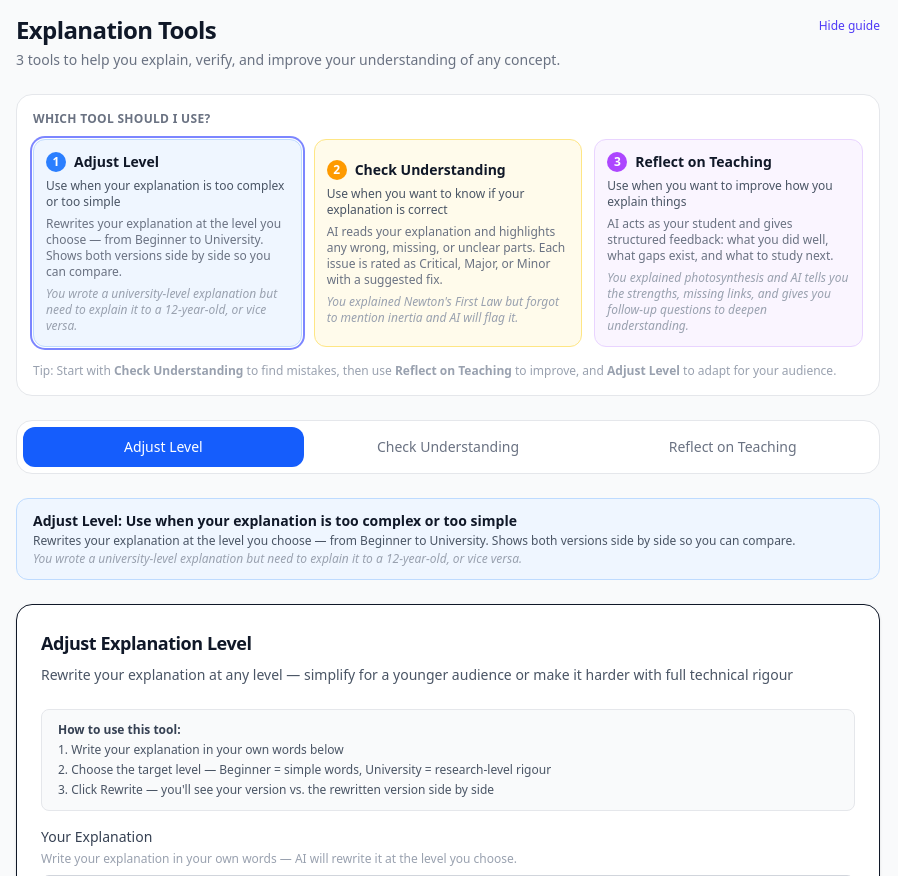
it: SimplifyPage — Explanation Tools › shows guide again after second toggle click
Click the button "Hide guide" at {"x": 849, "y": 26}, box [819,18,880,34]
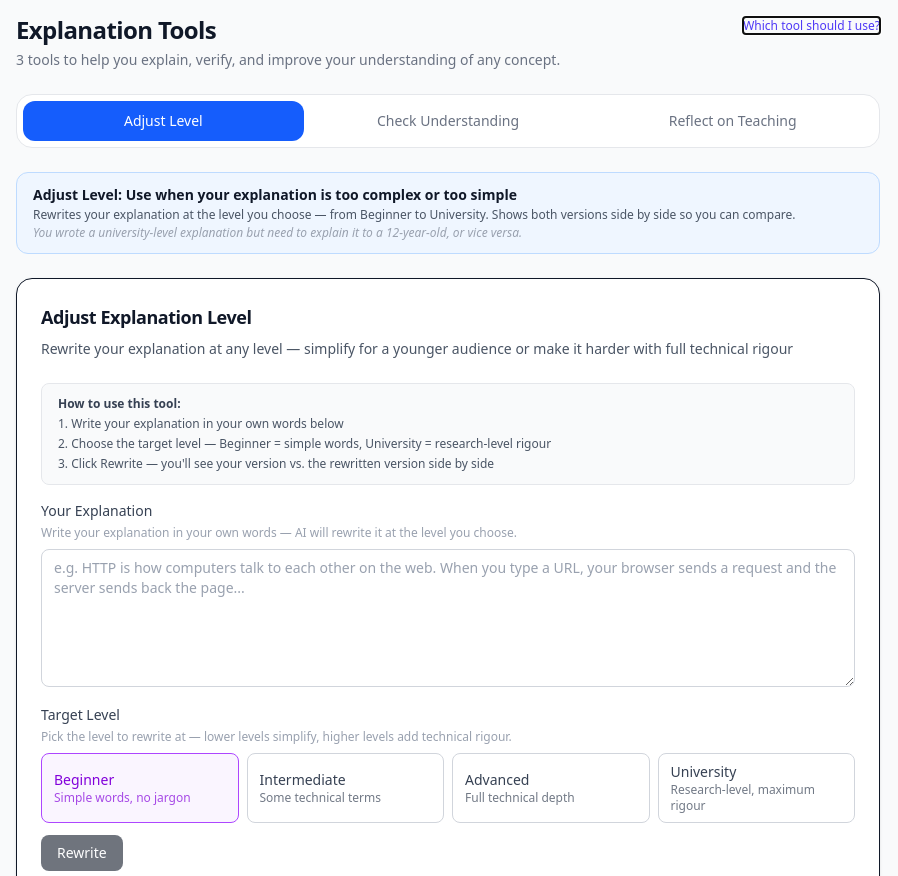
Click the button "Which tool should I use?" at {"x": 812, "y": 26}, box [743,18,880,34]
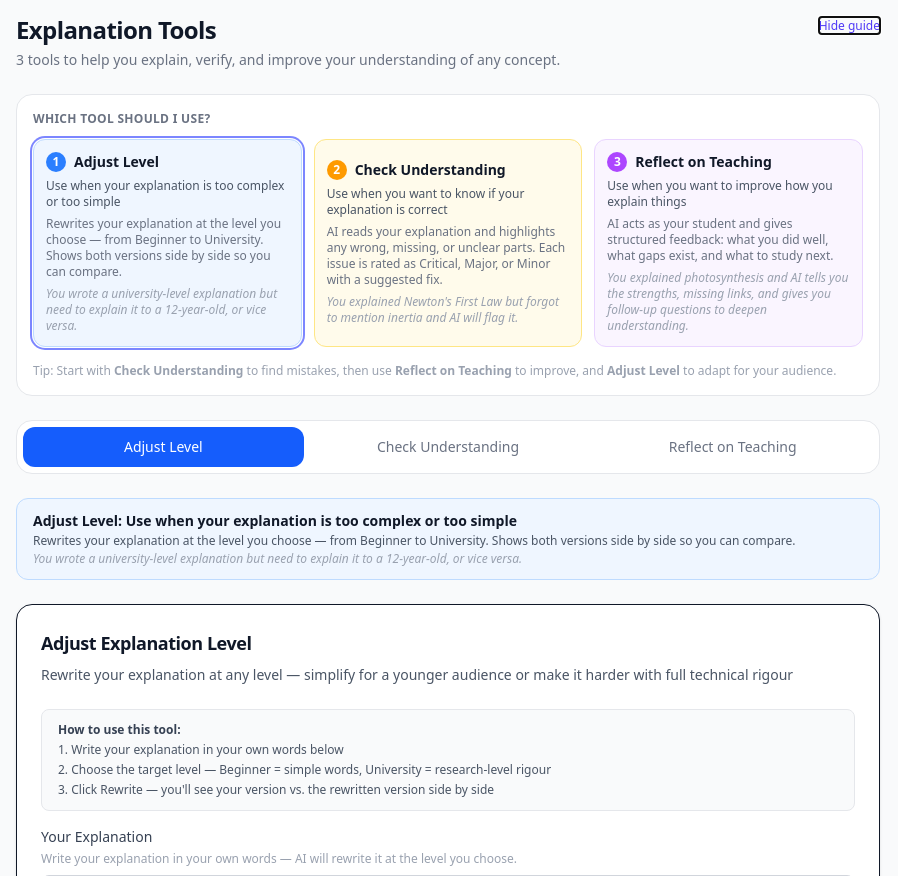
Check: the text "Use when your explanation is too complex or too simple" is shown, box [46,178,289,210]
